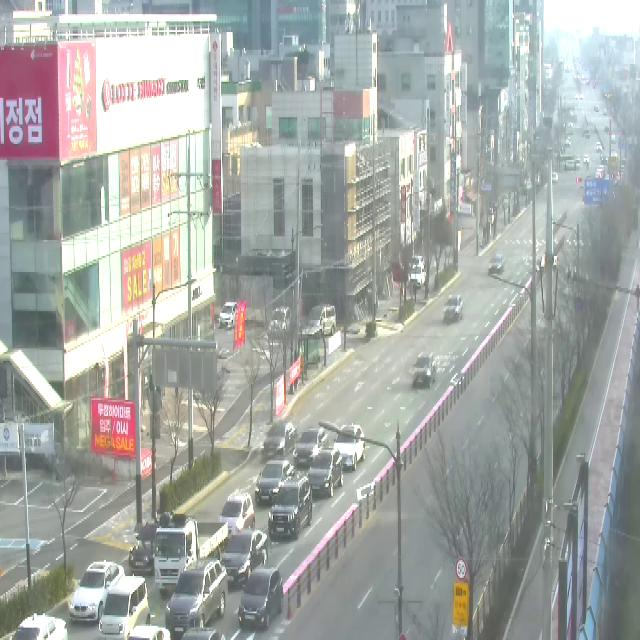Car: (165, 558, 227, 637), (69, 562, 125, 624), (99, 576, 151, 640), (268, 477, 312, 541), (220, 530, 268, 588), (238, 569, 282, 631), (255, 461, 295, 506), (307, 448, 342, 499), (8, 613, 68, 640), (333, 423, 365, 470), (220, 492, 255, 534), (261, 420, 295, 463), (293, 427, 328, 468), (308, 306, 336, 340), (412, 351, 437, 388), (268, 307, 292, 338), (128, 625, 171, 640), (444, 295, 464, 324), (218, 302, 237, 330), (181, 628, 225, 640), (408, 267, 426, 289), (488, 254, 506, 276), (409, 256, 424, 272)
Truck: (153, 512, 228, 600)
